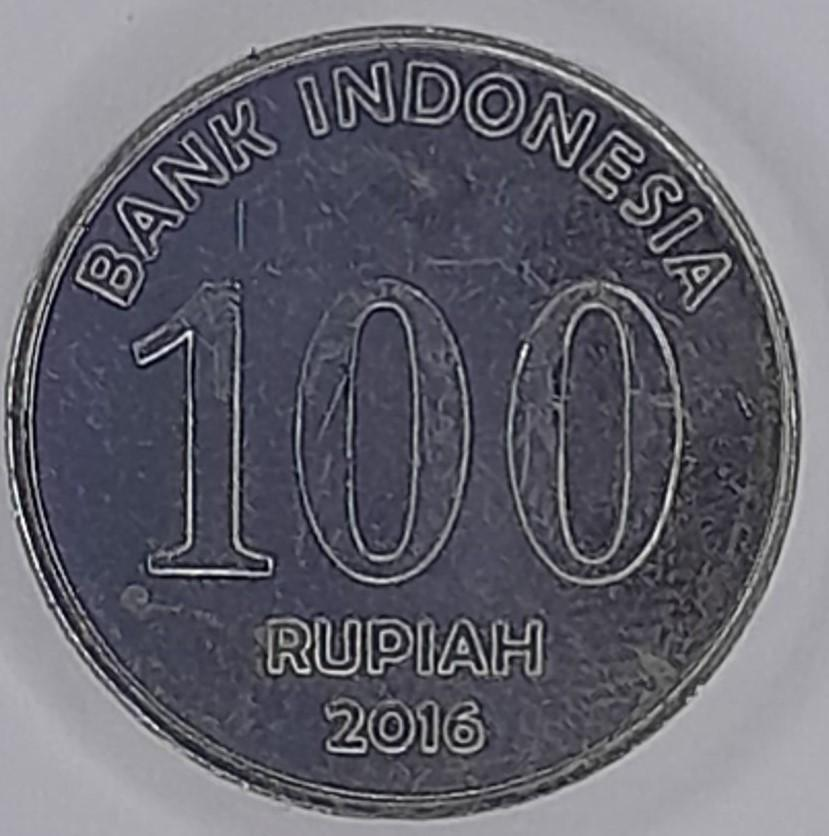coin_100_e2016: (0, 19, 807, 822)
